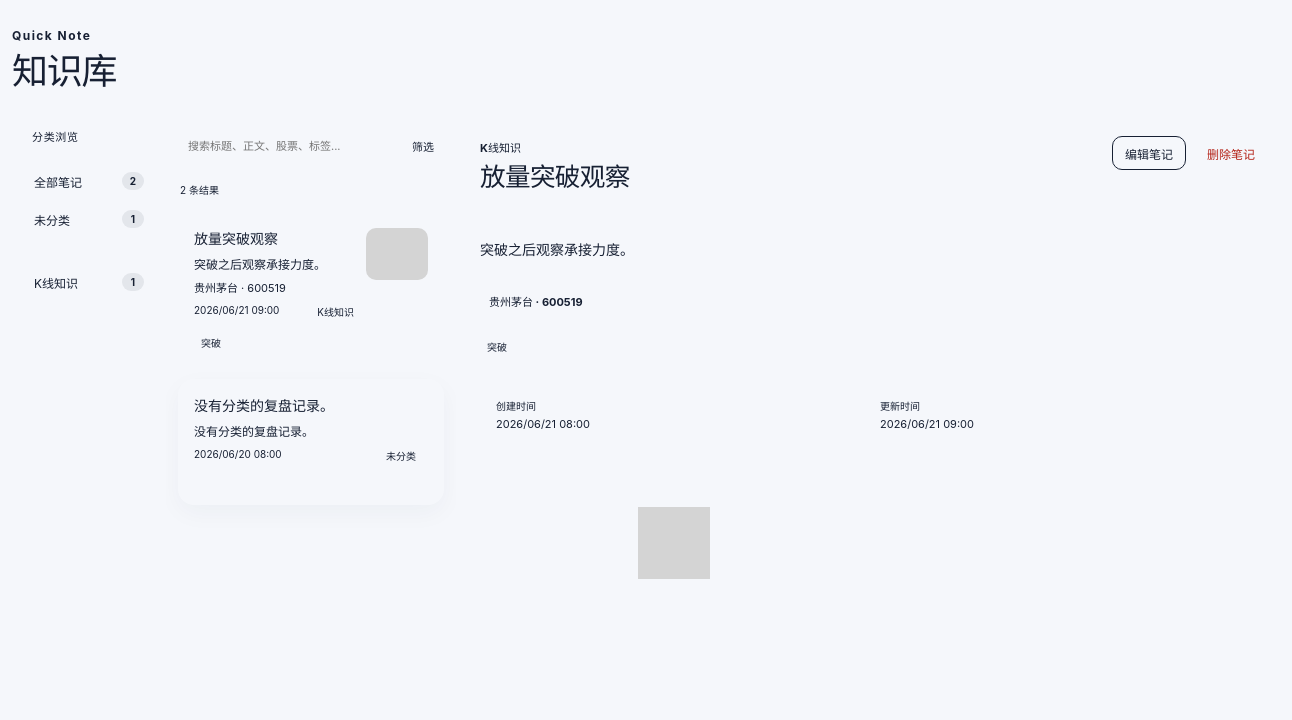
it: knowledge library › loads local data into category, card list, and selected detail columns
The image size is (1292, 720).
Check: the heading "放量突破观察" is shown, box x1=480 y1=161 x2=630 y2=193
Check: the navigation bar named "知识库分类" is shown, box x1=24 y1=130 x2=154 y2=301
Click the button "未分类 1". click: click(89, 219)
box: x1=24 y1=200 x2=154 y2=238
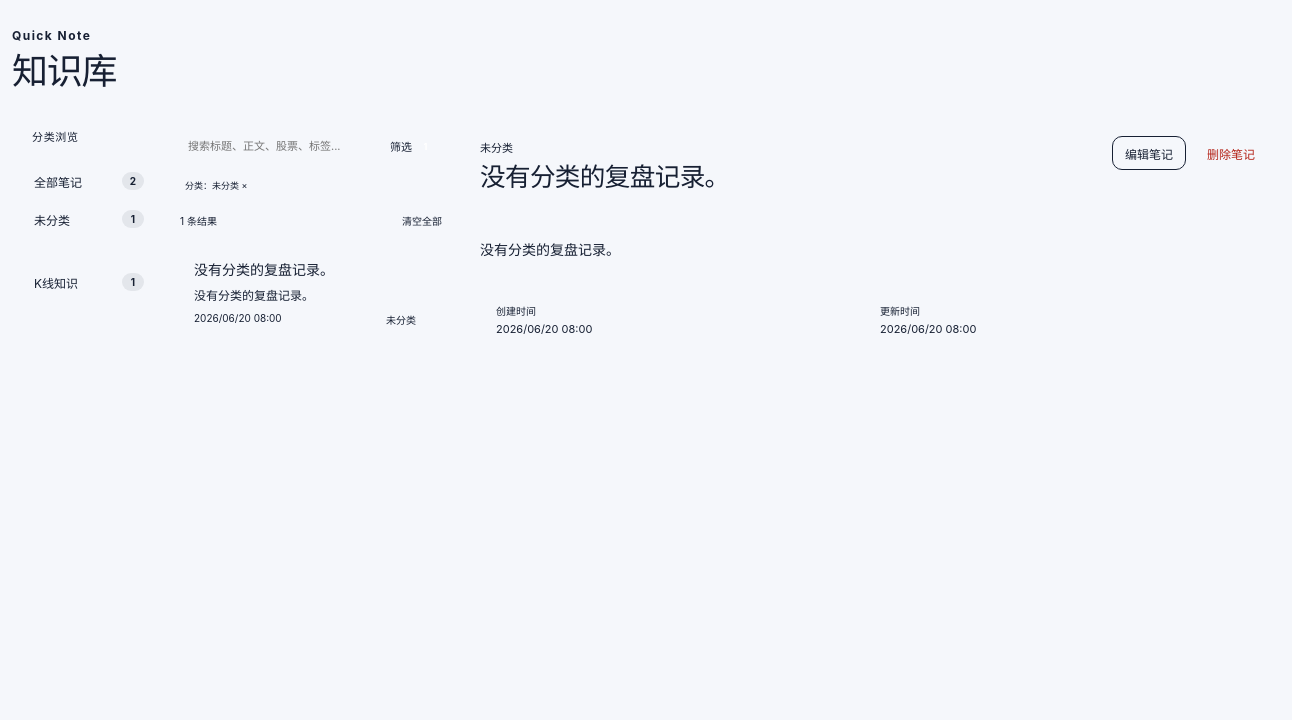
Check: the heading "没有分类的复盘记录。" is shown, box x1=480 y1=161 x2=730 y2=193
Check: the list item "放量突破观察" is gone
